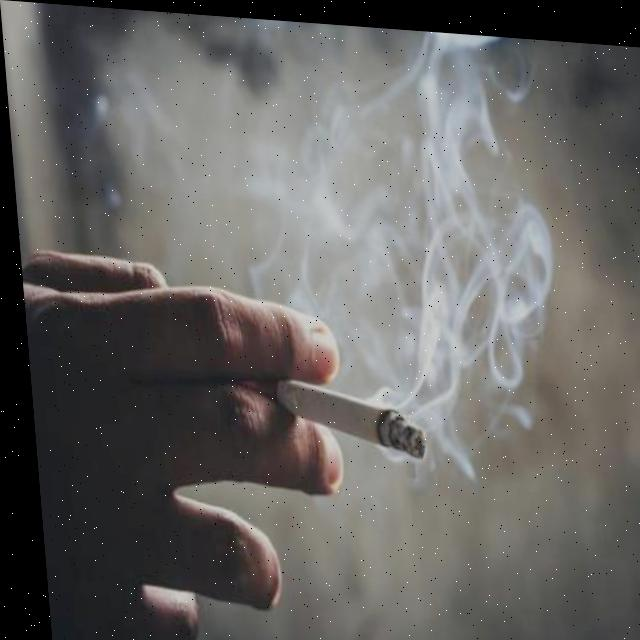cigarette: (252, 367, 423, 460)
